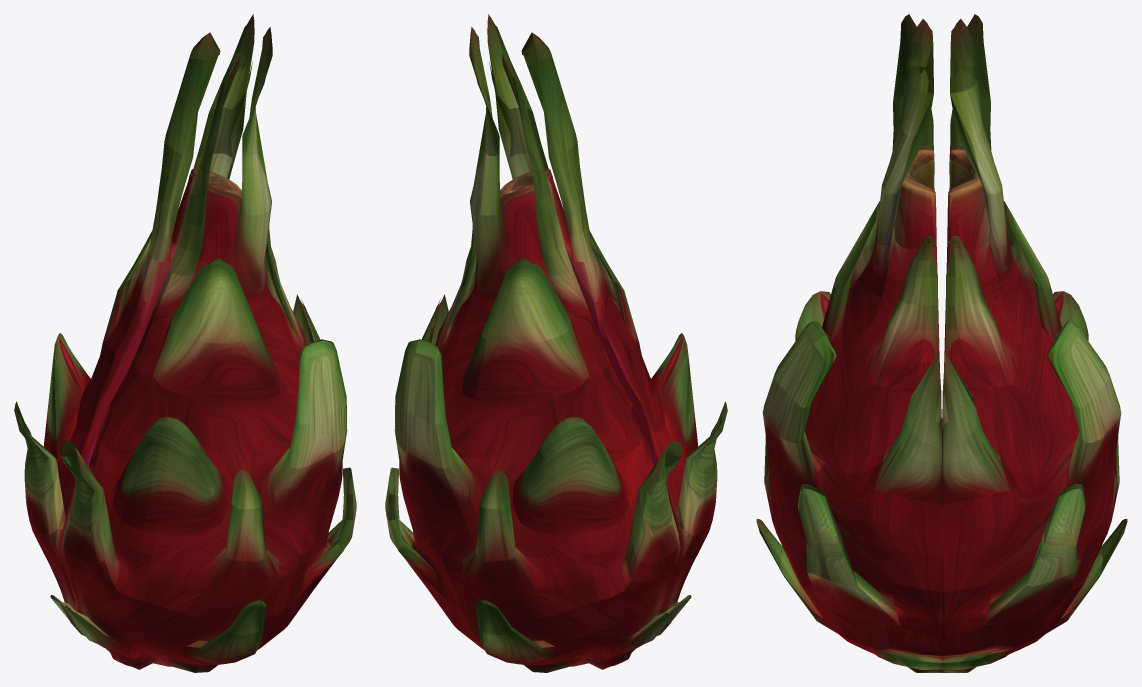
The model's file is dragon-cut.glb.
3 views of the same model, side by side, from view 1: azimuth 30°, elevation 25°; view 2: azimuth 150°, elevation 25°; view 3: azimuth 270°, elevation 25° (orthographic). The views are drawn at different scales.
Parts seen in each view (by area): view 1: AM130_022_011, AM130_022_011.001; view 2: AM130_022_011.001, AM130_022_011; view 3: AM130_022_011, AM130_022_011.001.
Boxes of the visible parts, left/top/right/bottom form: AM130_022_011: left=59, top=27, right=356, bottom=672; AM130_022_011.001: left=14, top=14, right=312, bottom=658; AM130_022_011.001: left=385, top=27, right=682, bottom=672; AM130_022_011: left=429, top=14, right=727, bottom=658; AM130_022_011: left=756, top=14, right=945, bottom=672; AM130_022_011.001: left=938, top=14, right=1127, bottom=672.
Size of the model in its own units: 0.0468 by 0.0987 by 0.0489.
Materials: 1 (1 with a texture image).
